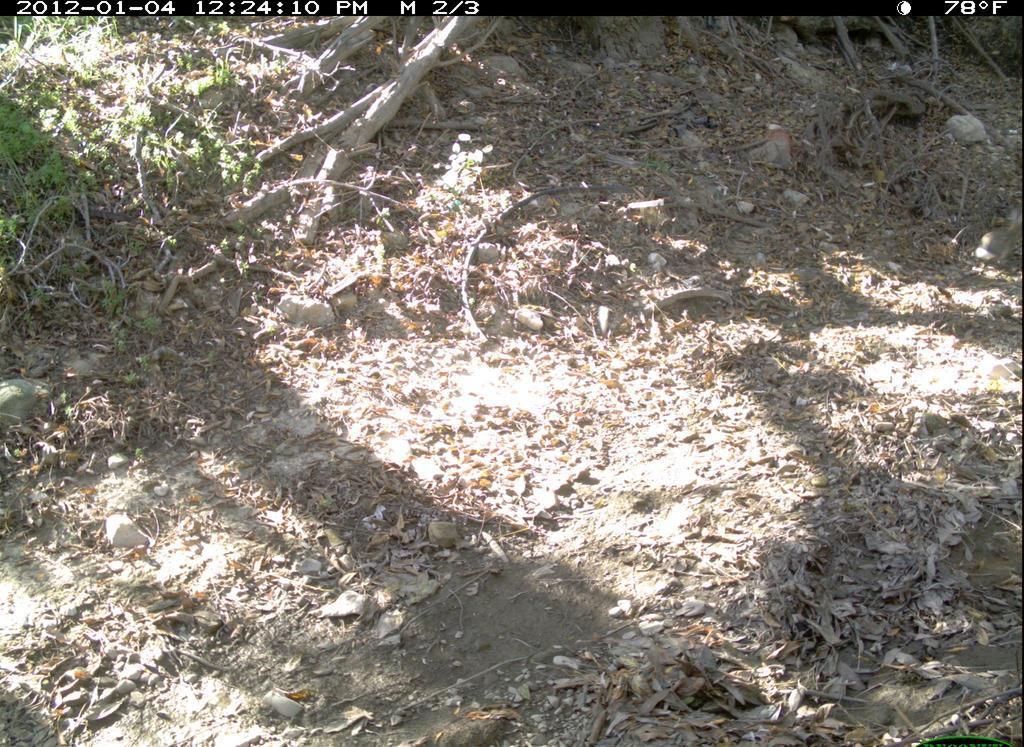rabbit: (972, 201, 1024, 282)
